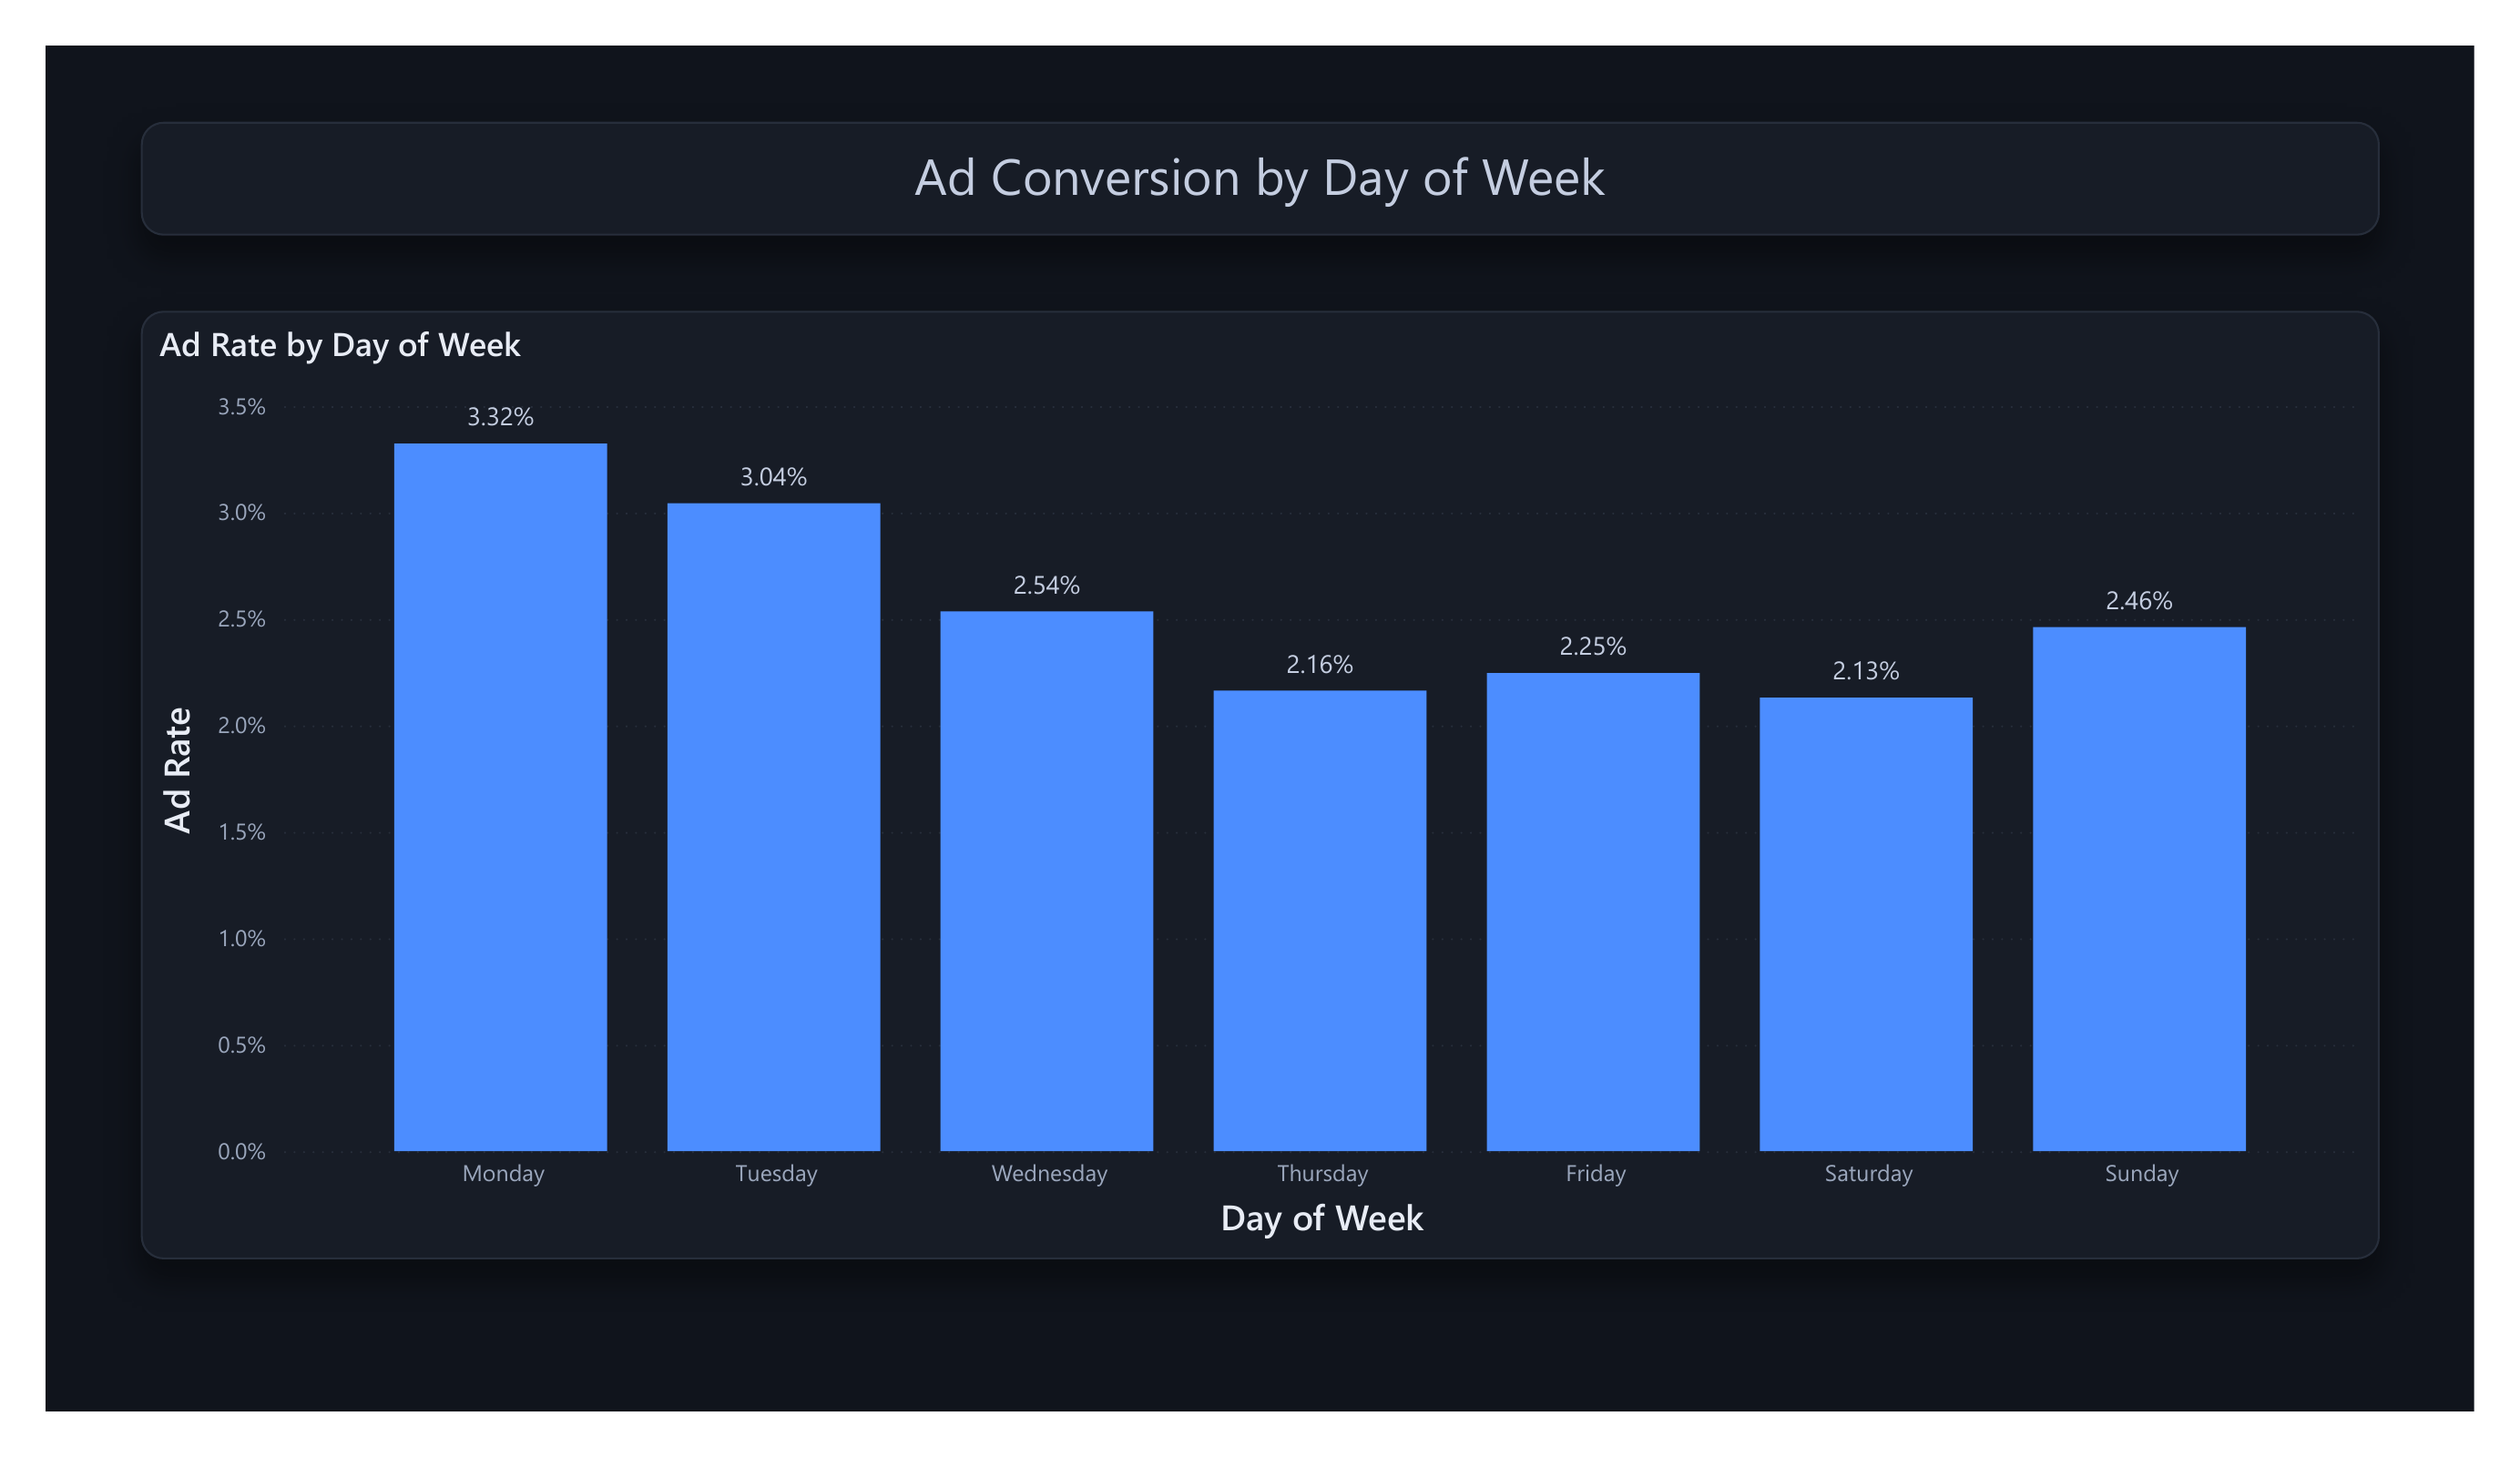

The dashboard page shown, as its layout file describes it:
{"tool":"powerbi","page":{"name":"Timing","canvas":[1280,720],"ordinal":2},"visuals":[{"type":"clusteredColumnChart","fields":{"Category":["DayOrder.most_ads_day"],"Y":["marketing_AB.Ad Rate"]},"box":[50,140,1180,500],"z":0},{"type":"textbox","box":[50,40,1180,60],"z":1}]}

Visuals, with their boxes on the page's 1280x720 design canvas (x1, y1, x2, y2). These are canvas units, not pixel positions in the 2520x1457 screenshot, which may show the page scaled, cropped or inside an application window:
clusteredColumnChart - DayOrder.most_ads_day x marketing_AB.Ad Rate: <box>50,140,1230,640</box>
textbox: <box>50,40,1230,100</box>
